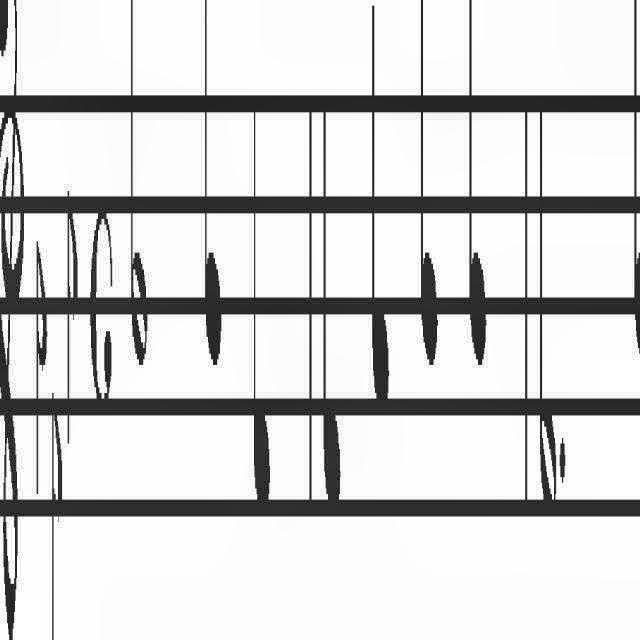Bass-clef: (0, 0, 26, 640)
Bemol: (34, 218, 48, 514), (49, 382, 62, 640), (66, 186, 78, 458)
Half-note: (538, 90, 558, 516), (129, 0, 149, 376)
Quarter-note: (370, 0, 392, 416), (252, 87, 272, 520), (322, 92, 342, 520), (202, 0, 222, 376), (468, 0, 488, 376), (419, 1, 438, 372), (632, 0, 640, 376)
